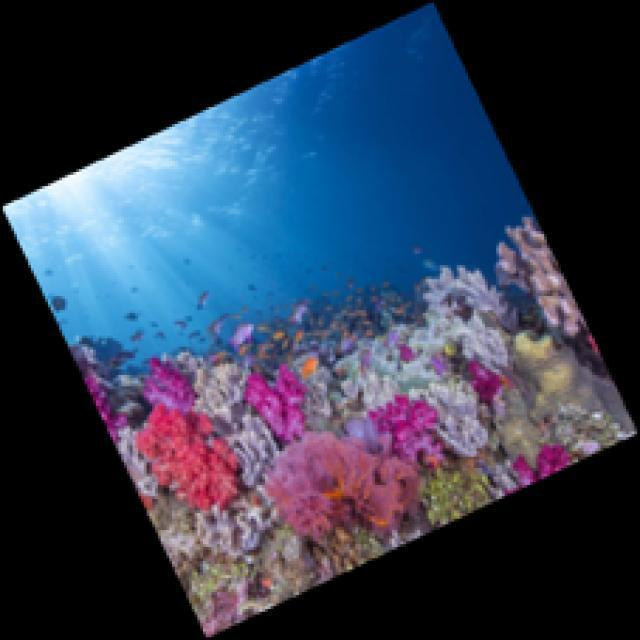Bleached: (338, 265, 520, 460), (192, 343, 281, 558)
Healthy: (266, 430, 419, 540), (137, 405, 245, 515), (245, 366, 308, 446), (370, 397, 443, 458), (509, 446, 572, 493), (145, 358, 200, 411), (86, 378, 127, 446), (472, 360, 503, 403), (403, 347, 415, 362)
